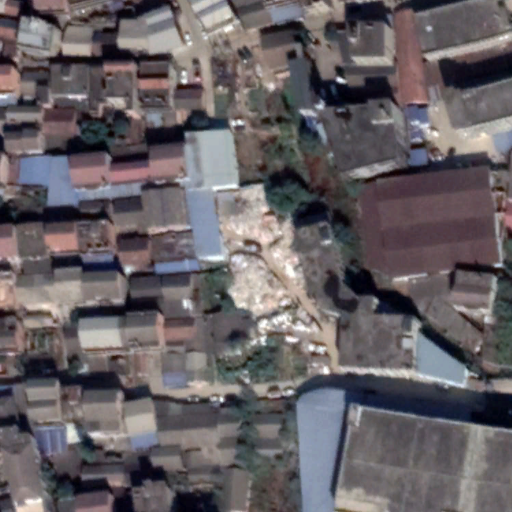msw: (218, 185, 317, 336)
